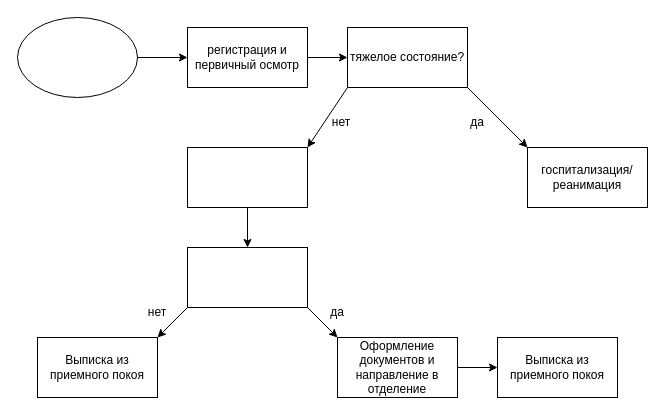
This 665x415 diagram has some shape labels left out. Here are the shapes that lost their labels. From the top down, the centre of each, then its label:
pixel 77 57: подача пациента
pixel 247 177: детальный осмотр и диагностика
pixel 247 277: требуется лечение в стационаре?
